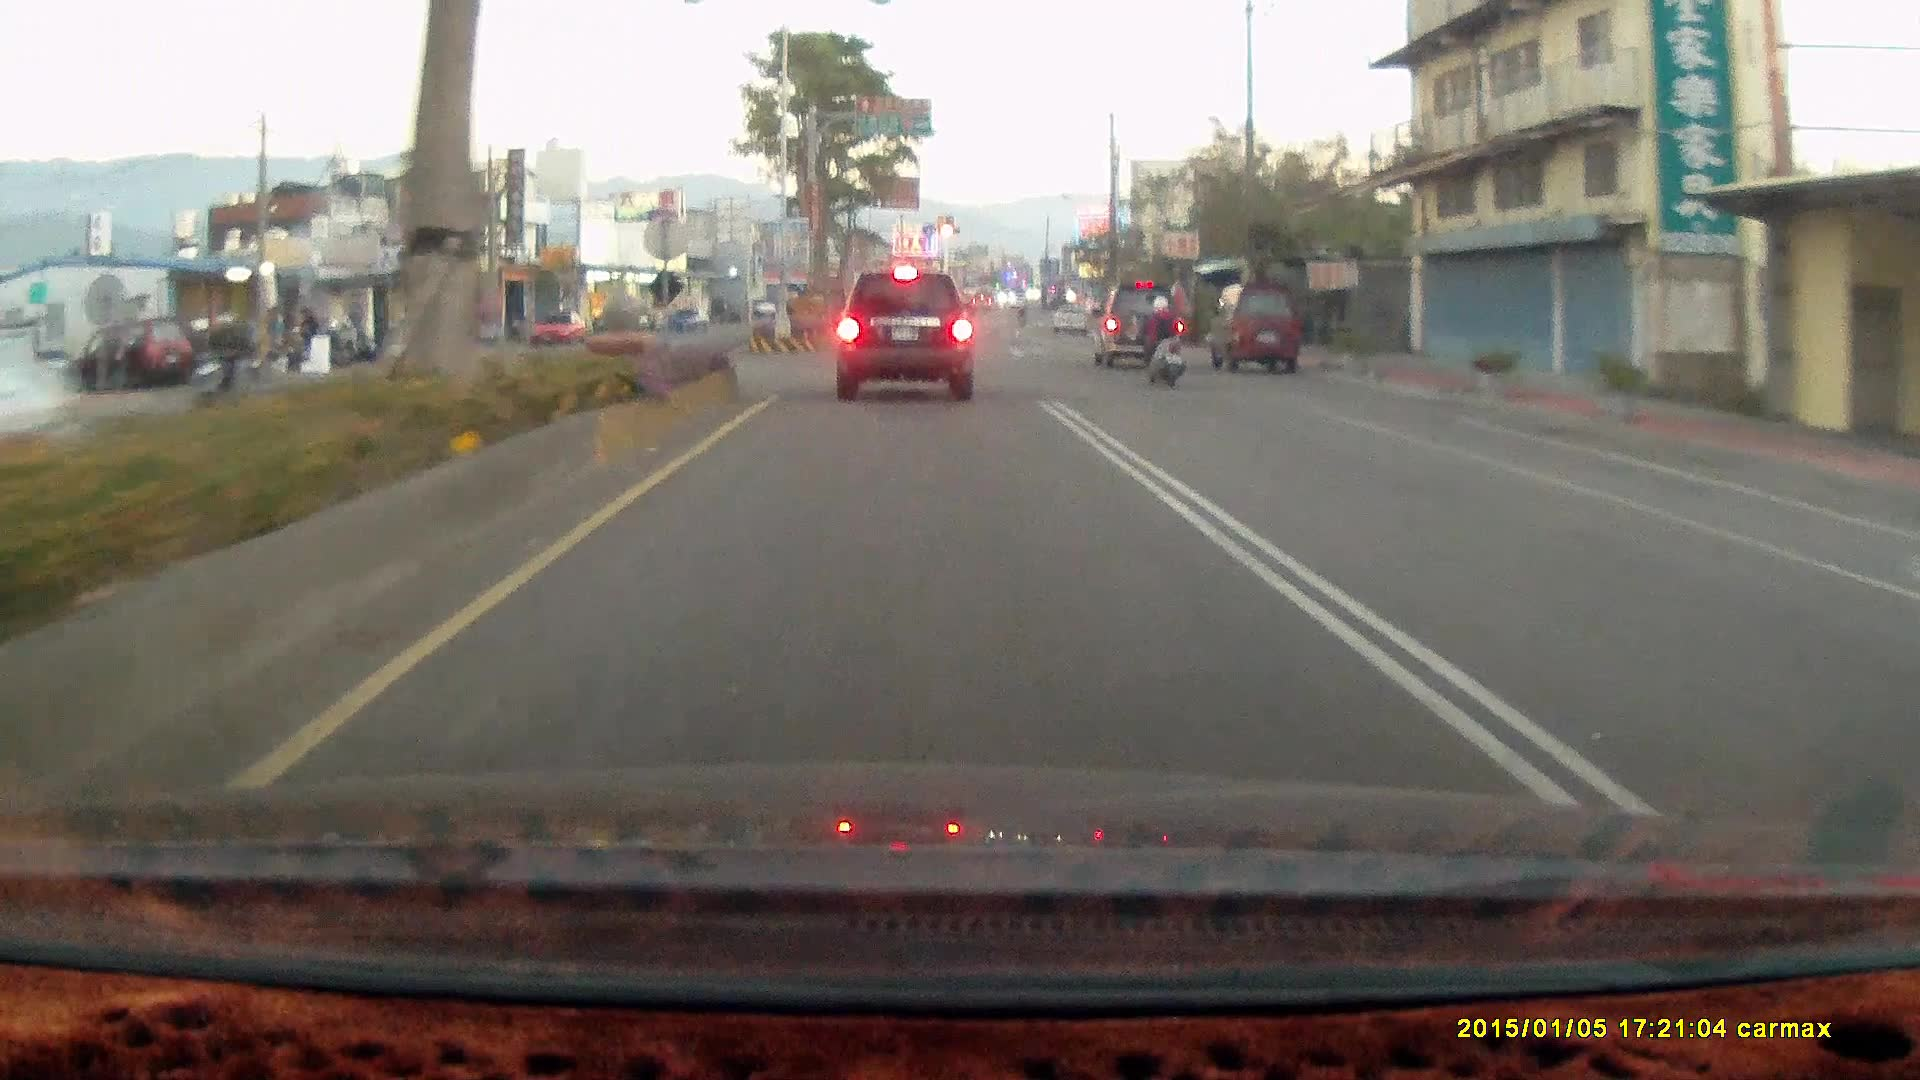rider: (1127, 285, 1197, 392), (177, 314, 237, 412), (1133, 292, 1184, 386)
vehicle: (831, 262, 986, 399), (834, 268, 973, 399), (1207, 282, 1302, 382), (1095, 281, 1194, 371), (1207, 282, 1298, 370), (1091, 280, 1182, 368), (376, 309, 468, 364)
